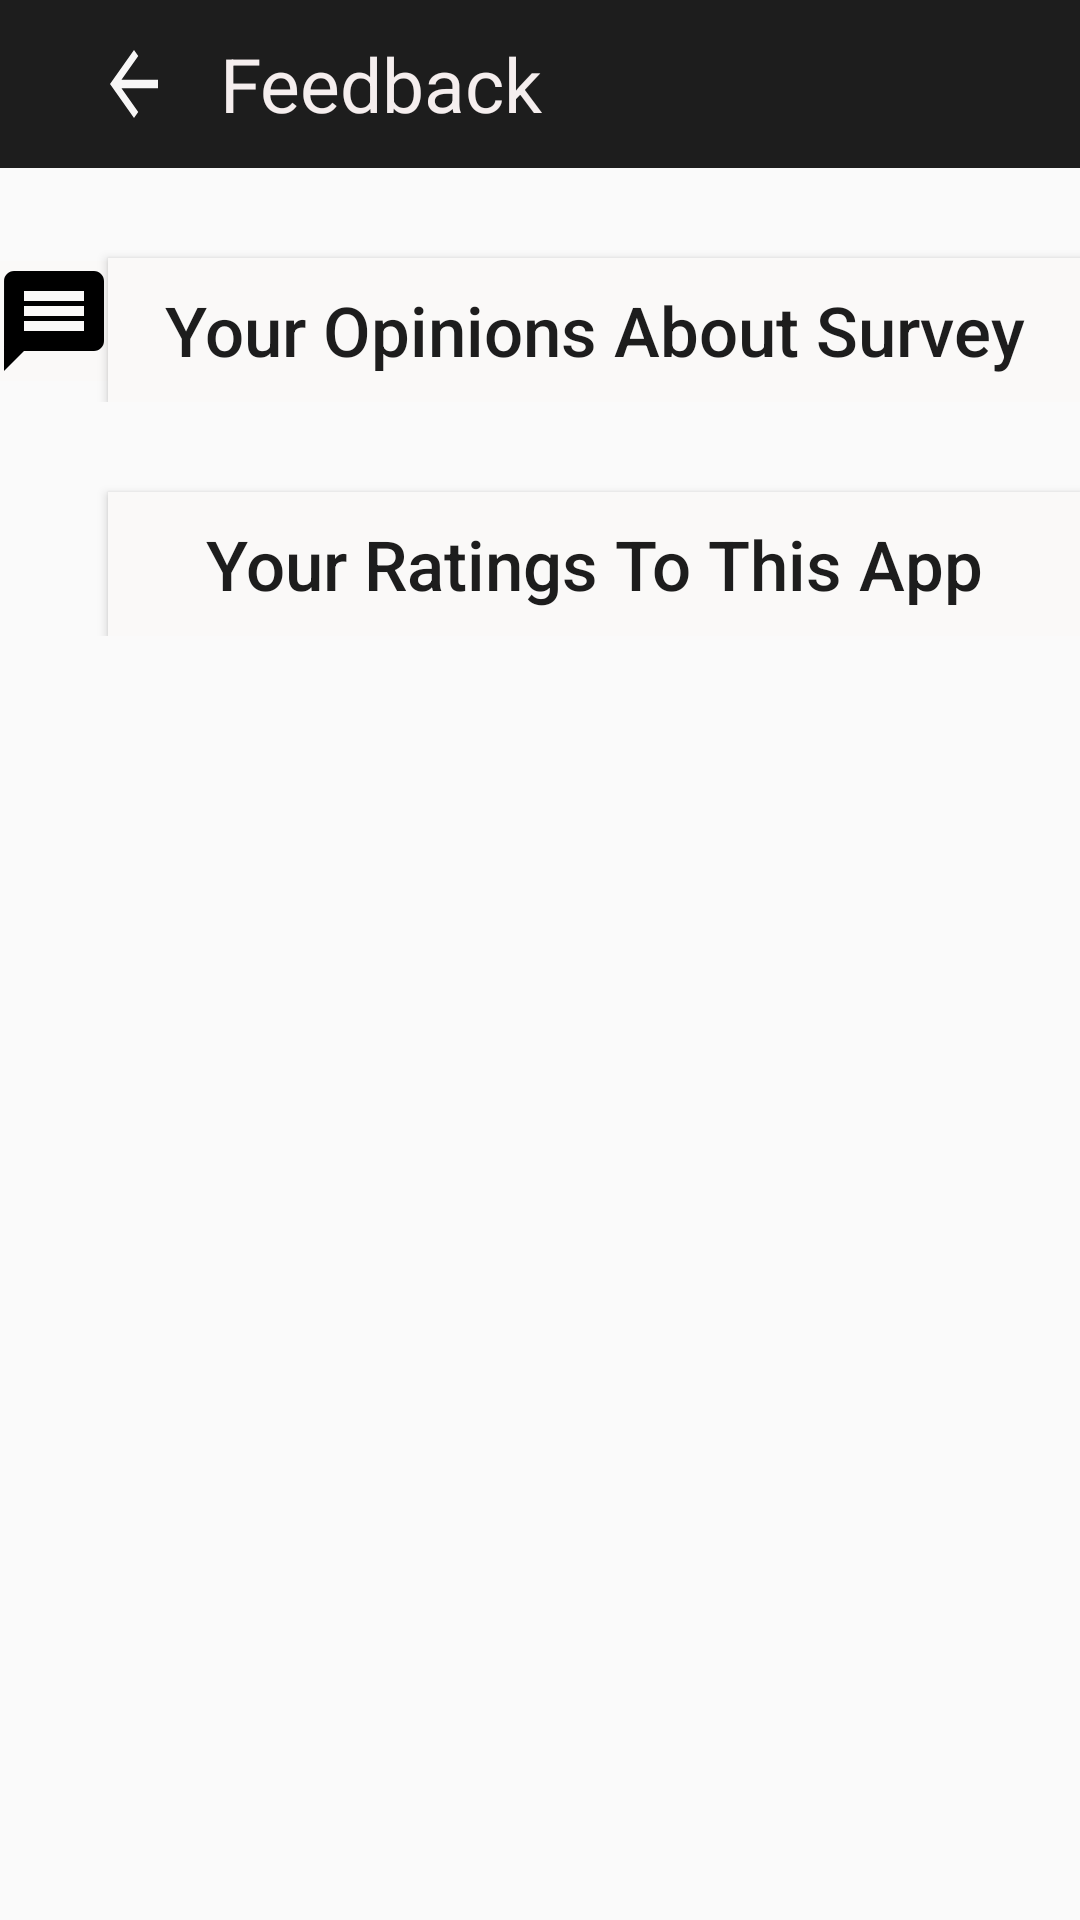

Icons on this 1080x1920 Android screen, each with the point to tap as (x=x, y=y):
arrow back: (x=134, y=84)
message: (x=54, y=321)
